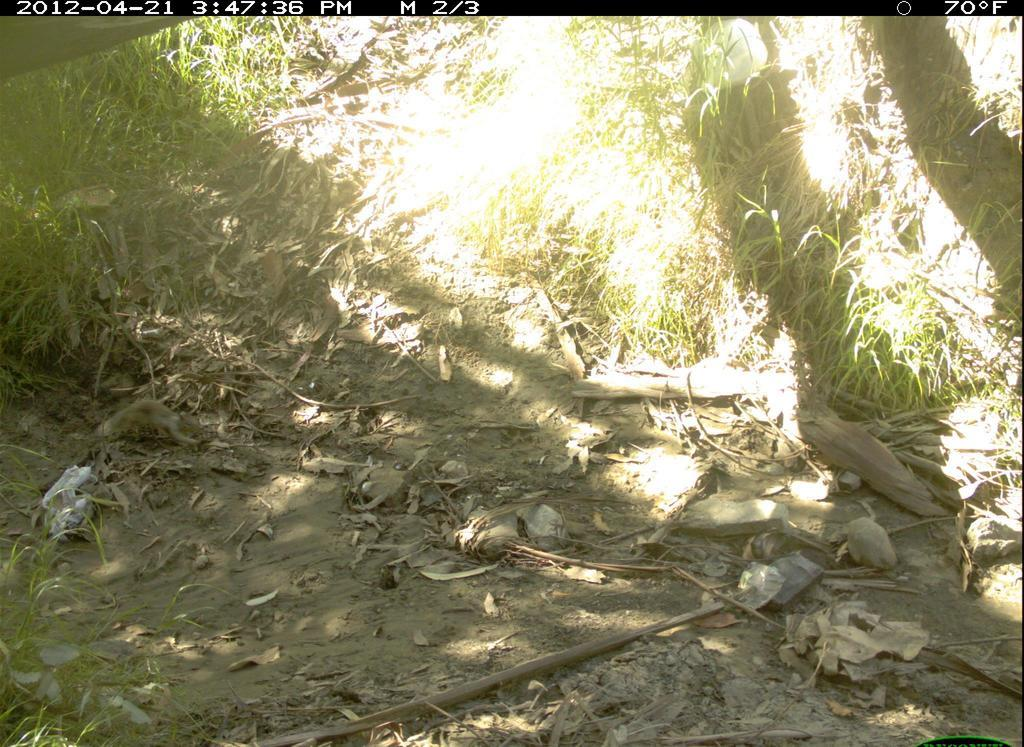squirrel: (91, 390, 210, 455)
